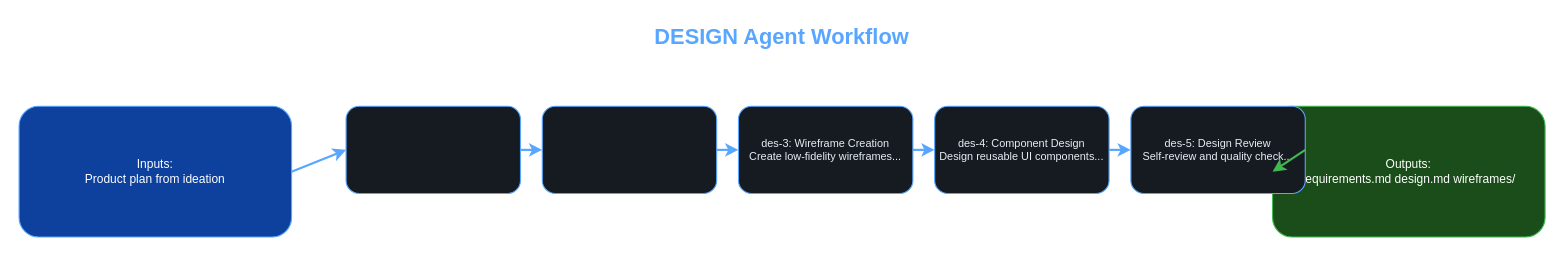
Some shapes in this 1564 by 256 pixel diagram are drawn without their labels. Each missing label, with the centre of its shape:
"des-1: Requirements Gathering Create formal requirements document..." belongs at pixel 432 149.
"des-2: User Flow Design Map out user journeys and flows..." belongs at pixel 629 149.
